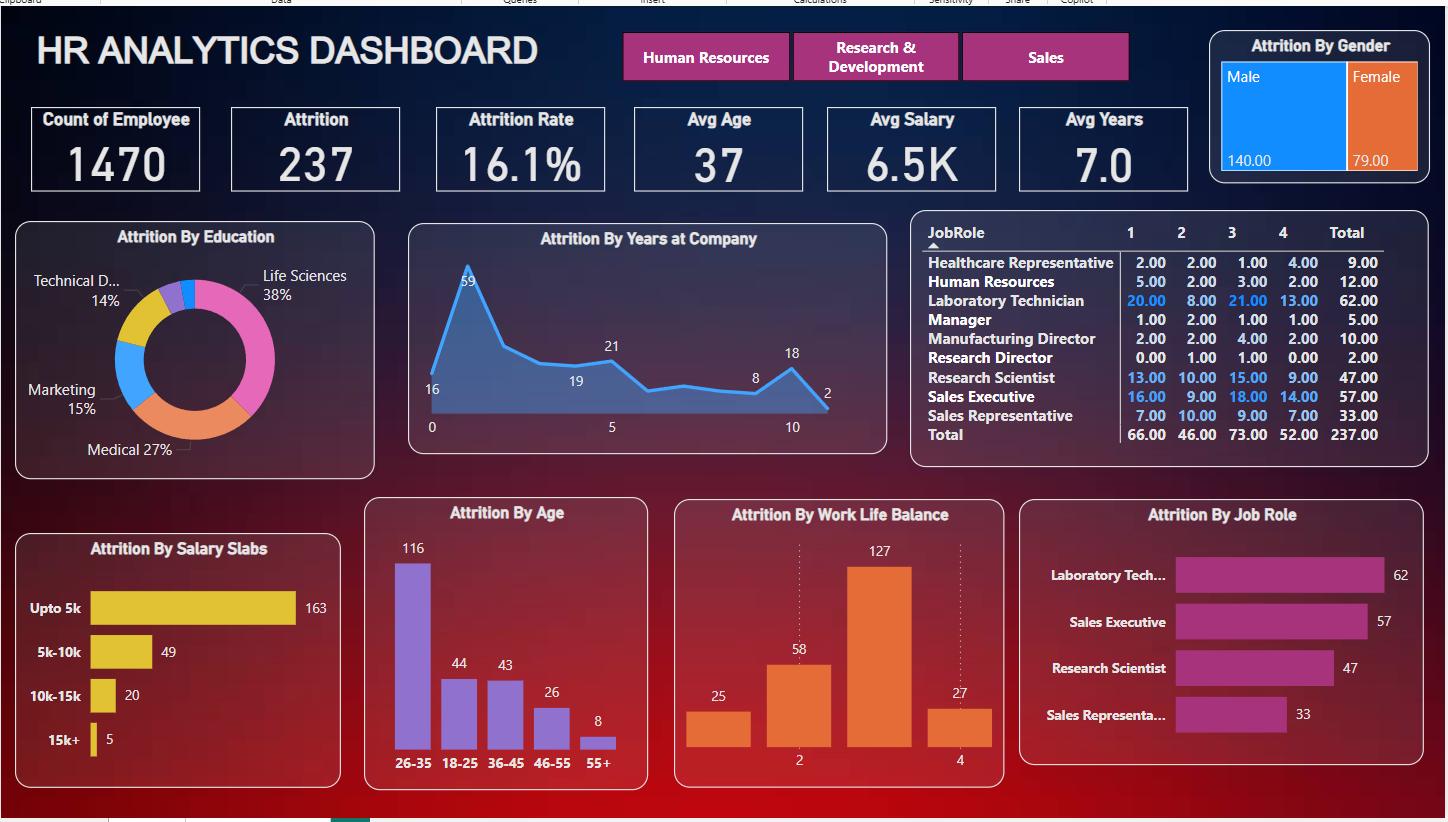

The page's visual inventory and layout, read from the dashboard file:
{"tool":"powerbi","page":{"name":"Page 1","canvas":[1280,720],"ordinal":0},"visuals":[{"type":"card","title":"Count of Employee","fields":{"Values":["CountNonNull(HR_Analytics.EmpID)"]},"box":[26.3,89.5,149.8,74.9],"z":0},{"type":"card","title":"Attrition","fields":{"Values":["Sum(HR_Analytics.AttritionCount)"]},"box":[204.3,89.5,149.8,74.9],"z":1000},{"type":"card","title":"Attrition Rate","fields":{"Values":["HR_Analytics.AttritionRate"]},"box":[386.1,89.5,149.8,74.9],"z":2000},{"type":"card","title":"Avg Age","fields":{"Values":["Avg(HR_Analytics.Age)"]},"box":[561.2,89.5,149.8,74.9],"z":3000},{"type":"card","title":"Avg Salary","fields":{"Values":["Avg(HR_Analytics.MonthlyIncome)"]},"box":[732.4,89.5,149.8,74.9],"z":4000},{"type":"card","title":"Avg Years","fields":{"Values":["Avg(HR_Analytics.YearsAtCompany)"]},"box":[902.6,89.5,149.8,74.9],"z":5000},{"type":"donutChart","title":"Attrition By Education","fields":{"Category":["HR_Analytics.EducationField"],"Y":["Sum(HR_Analytics.AttritionCount)"]},"box":[12,191,319,229],"z":7000},{"type":"columnChart","title":"Attrition By Age","fields":{"Category":["HR_Analytics.AgeGroup"],"Y":["Sum(HR_Analytics.AttritionCount)"]},"box":[322,435,252,260],"z":8000},{"type":"pivotTable","title":"Attrition By Age","fields":{"Rows":["HR_Analytics.JobRole"],"Values":["Sum(HR_Analytics.AttritionCount)"],"Columns":["HR_Analytics.JobSatisfaction"]},"box":[806,181,460,228],"z":9000},{"type":"barChart","title":"Attrition By Salary Slabs","fields":{"Category":["HR_Analytics.SalarySlab"],"Y":["Sum(HR_Analytics.AttritionCount)"]},"box":[12,467,289,226],"z":10000},{"type":"barChart","title":"Attrition By Job Role","fields":{"Y":["Sum(HR_Analytics.AttritionCount)"],"Category":["HR_Analytics.JobRole"]},"box":[903,437,359,236],"z":11000},{"type":"areaChart","title":"Attrition By Years at Company","fields":{"Category":["HR_Analytics.YearsAtCompany"],"Y":["Sum(HR_Analytics.AttritionCount)"]},"box":[361,192,425,205],"z":12000},{"type":"treemap","title":"Attrition By Gender","fields":{"Group":["HR_Analytics.Gender"],"Values":["Sum(HR_Analytics.AttritionCount)"]},"box":[1070.9,21.4,196.5,136.2],"z":13000},{"type":"slicer","fields":{"Values":["HR_Analytics.Department"]},"box":[525.2,15.6,499.9,52.5],"z":14000},{"type":"textbox","box":[26.3,11.7,486.3,56.4],"z":15000},{"type":"columnChart","title":"Attrition By Work Life Balance","fields":{"Category":["HR_Analytics.WorkLifeBalance"],"Y":["Sum(HR_Analytics.AttritionCount)"]},"box":[597,437,293,256],"z":16000}]}

Visuals, with their boxes on the page's 1280x720 design canvas (x1, y1, x2, y2). These are canvas units, not pixel positions in the 1448x822 screenshot, which may show the page scaled, cropped or inside an application window:
"Count of Employee" card: detection(26, 90, 176, 164)
"Attrition" card: detection(204, 90, 354, 164)
"Attrition Rate" card: detection(386, 90, 536, 164)
"Avg Age" card: detection(561, 90, 711, 164)
"Avg Salary" card: detection(732, 90, 882, 164)
"Avg Years" card: detection(903, 90, 1052, 164)
"Attrition By Education" donutChart: detection(12, 191, 331, 420)
"Attrition By Age" columnChart: detection(322, 435, 574, 695)
"Attrition By Age" pivotTable: detection(806, 181, 1266, 409)
"Attrition By Salary Slabs" barChart: detection(12, 467, 301, 693)
"Attrition By Job Role" barChart: detection(903, 437, 1262, 673)
"Attrition By Years at Company" areaChart: detection(361, 192, 786, 397)
"Attrition By Gender" treemap: detection(1071, 21, 1267, 158)
slicer - HR_Analytics.Department: detection(525, 16, 1025, 68)
textbox: detection(26, 12, 513, 68)
"Attrition By Work Life Balance" columnChart: detection(597, 437, 890, 693)
